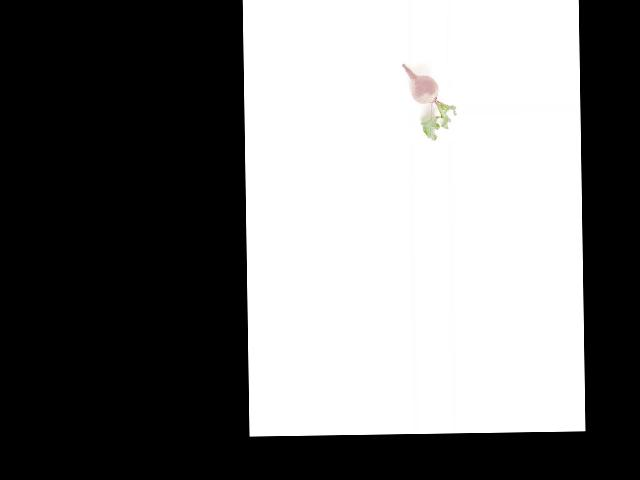beet: (402, 63, 457, 141)
